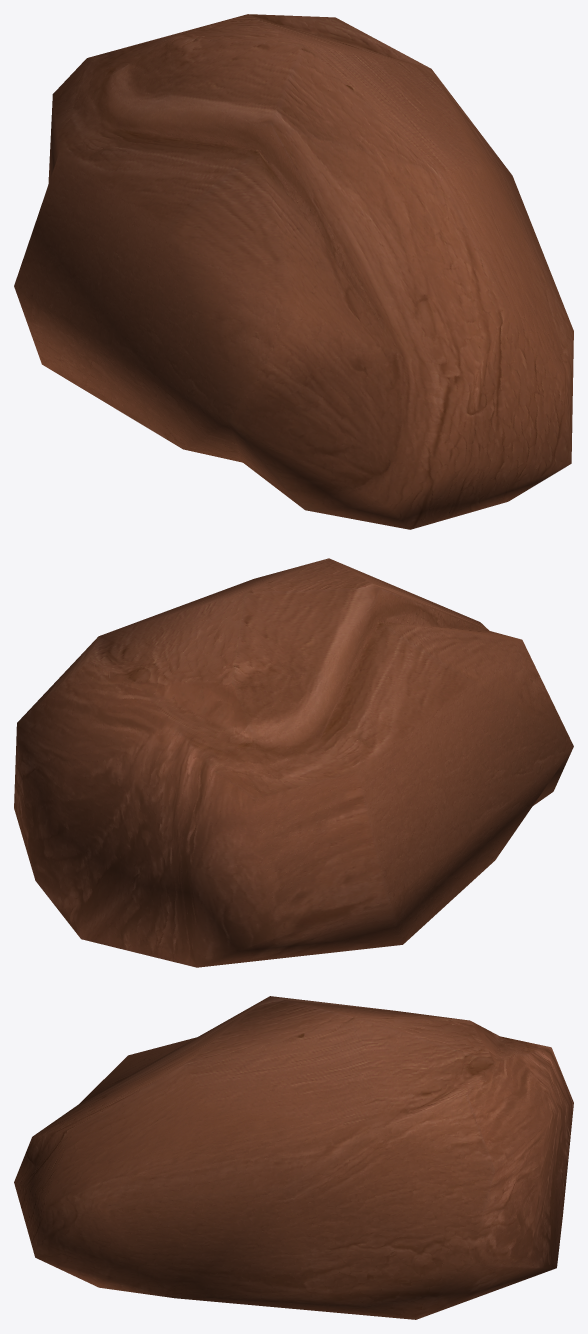
Rendered from Meshy_AI_Whipped_Cream_Scoop_0612082107_texture.fbx.
The picture shows the model from 3 angles, top to bottom: view 1: azimuth 30°, elevation 25°; view 2: azimuth 150°, elevation 25°; view 3: azimuth 270°, elevation 25°; orthographic projection. The views are drawn at different scales.
Visible parts, largest first — view 1: Mesh_0; view 2: Mesh_0; view 3: Mesh_0.
Boxes of the visible parts, x1,y1,x2,y2 form: Mesh_0: (14, 14, 573, 529); Mesh_0: (14, 558, 573, 967); Mesh_0: (14, 996, 573, 1319).
Bounding box in the file's own units: 123 × 87.99 × 187.
1 material, 1 textured.
